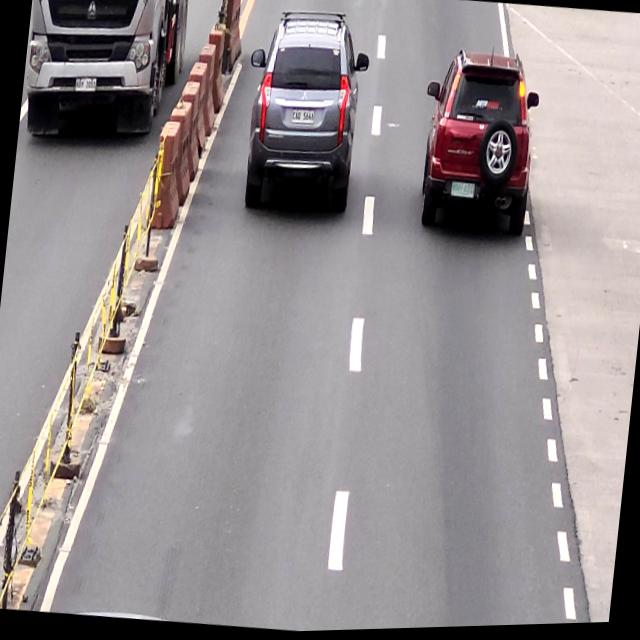Car: (235, 9, 374, 222), (410, 43, 545, 245)
License-Plate: (449, 182, 476, 202), (290, 108, 316, 127)
